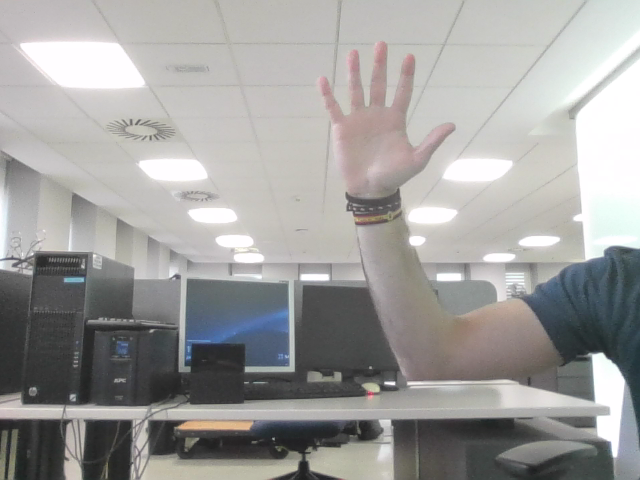Mano Abierta: (327, 52, 441, 171)
